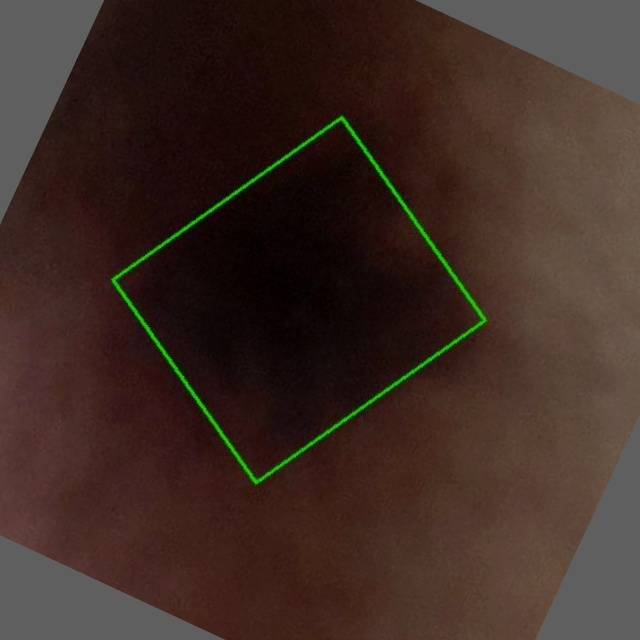Contact Dermatitis: (113, 116, 486, 482)
